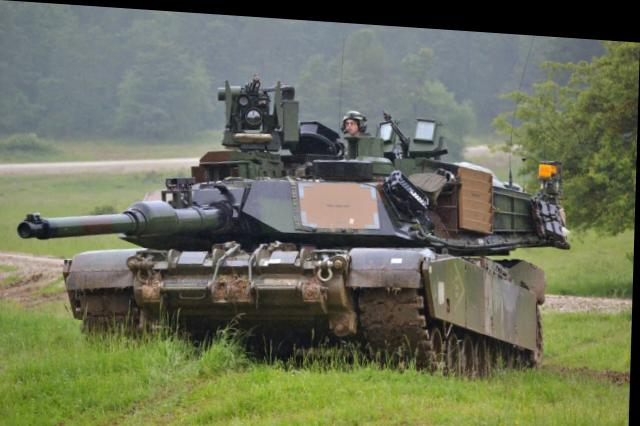other: (63, 112, 561, 371)
